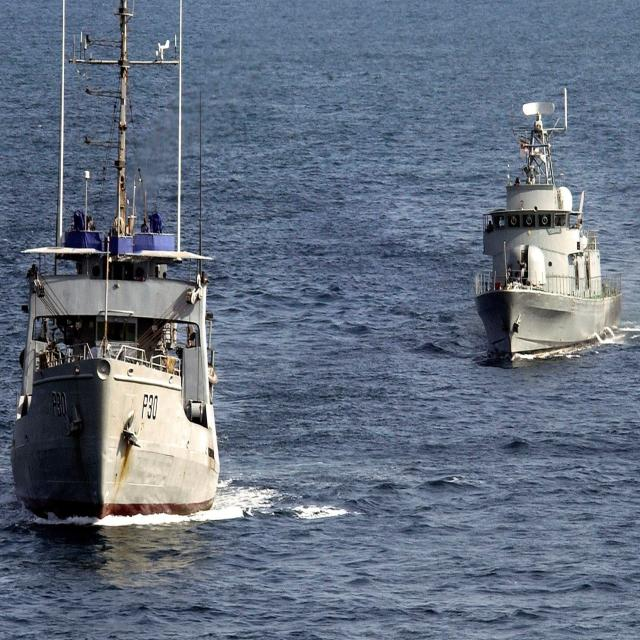navalvessels: (14, 0, 235, 519), (466, 81, 629, 378)
